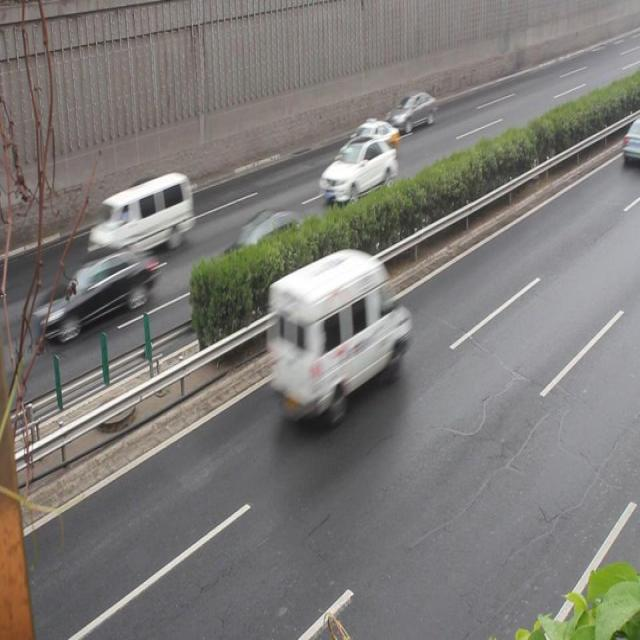car: (267, 253, 408, 417), (47, 246, 157, 337), (214, 208, 325, 290), (319, 136, 396, 204), (335, 119, 399, 162), (385, 90, 435, 130)
truck: (86, 172, 194, 259)
